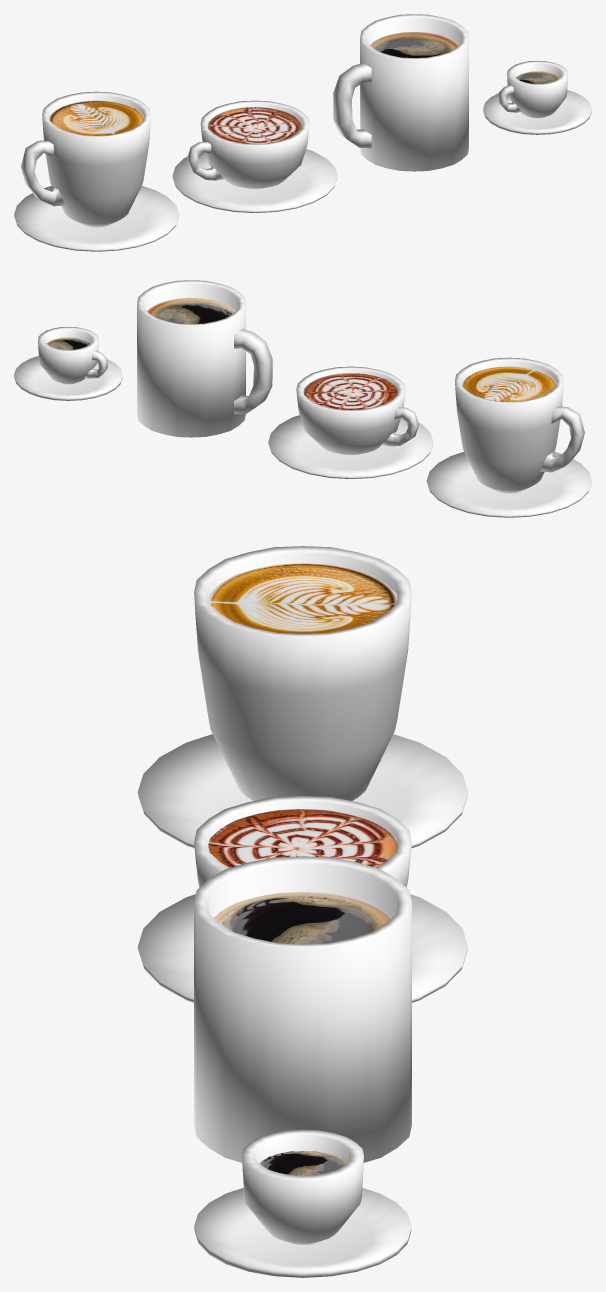
File: compressed-coldcoffee.glb
3 views of the same model, one above another, from view 1: azimuth 30°, elevation 25°; view 2: azimuth 150°, elevation 25°; view 3: azimuth 270°, elevation 25° (orthographic). The views are drawn at different scales.
Visible parts, largest first — view 1: object 3, coffee_latte_03_coffee_BLACK_0, coffee_cappuccino_03_coffee_BLACK_0, coffee_cappuccino_01_coffee_CAPPUCCINO_0, coffee_latte_01_coffee_LATTE_0, coffee_black_01_coffee_BLACK_0; view 2: object 3, coffee_latte_03_coffee_BLACK_0, coffee_cappuccino_03_coffee_BLACK_0, coffee_cappuccino_01_coffee_CAPPUCCINO_0, coffee_latte_01_coffee_LATTE_0, coffee_black_01_coffee_BLACK_0; view 3: object 3, coffee_latte_03_coffee_BLACK_0, coffee_latte_01_coffee_LATTE_0, coffee_cappuccino_03_coffee_BLACK_0, coffee_cappuccino_01_coffee_CAPPUCCINO_0, coffee_black_01_coffee_BLACK_0.
Boxes of the visible parts, bbox=[...] form: object 3: bbox=[21, 14, 591, 227]; coffee_latte_03_coffee_BLACK_0: bbox=[14, 186, 179, 251]; coffee_cappuccino_03_coffee_BLACK_0: bbox=[172, 149, 337, 212]; coffee_cappuccino_01_coffee_CAPPUCCINO_0: bbox=[207, 107, 302, 143]; coffee_latte_01_coffee_LATTE_0: bbox=[49, 100, 143, 135]; coffee_black_01_coffee_BLACK_0: bbox=[370, 32, 458, 57]; object 3: bbox=[14, 280, 584, 493]; coffee_latte_03_coffee_BLACK_0: bbox=[426, 452, 591, 517]; coffee_cappuccino_03_coffee_BLACK_0: bbox=[268, 415, 433, 478]; coffee_cappuccino_01_coffee_CAPPUCCINO_0: bbox=[303, 373, 398, 409]; coffee_latte_01_coffee_LATTE_0: bbox=[462, 366, 556, 401]; coffee_black_01_coffee_BLACK_0: bbox=[147, 298, 235, 323]; object 3: bbox=[194, 546, 411, 1277]; coffee_latte_03_coffee_BLACK_0: bbox=[137, 734, 468, 848]; coffee_latte_01_coffee_LATTE_0: bbox=[208, 563, 397, 633]; coffee_cappuccino_03_coffee_BLACK_0: bbox=[137, 894, 468, 1002]; coffee_cappuccino_01_coffee_CAPPUCCINO_0: bbox=[208, 809, 397, 867]; coffee_black_01_coffee_BLACK_0: bbox=[214, 892, 391, 943].
Size of the model in its own units: 0.6822 by 0.1293 by 0.1741.
Materials: 3 (3 with a texture image).
